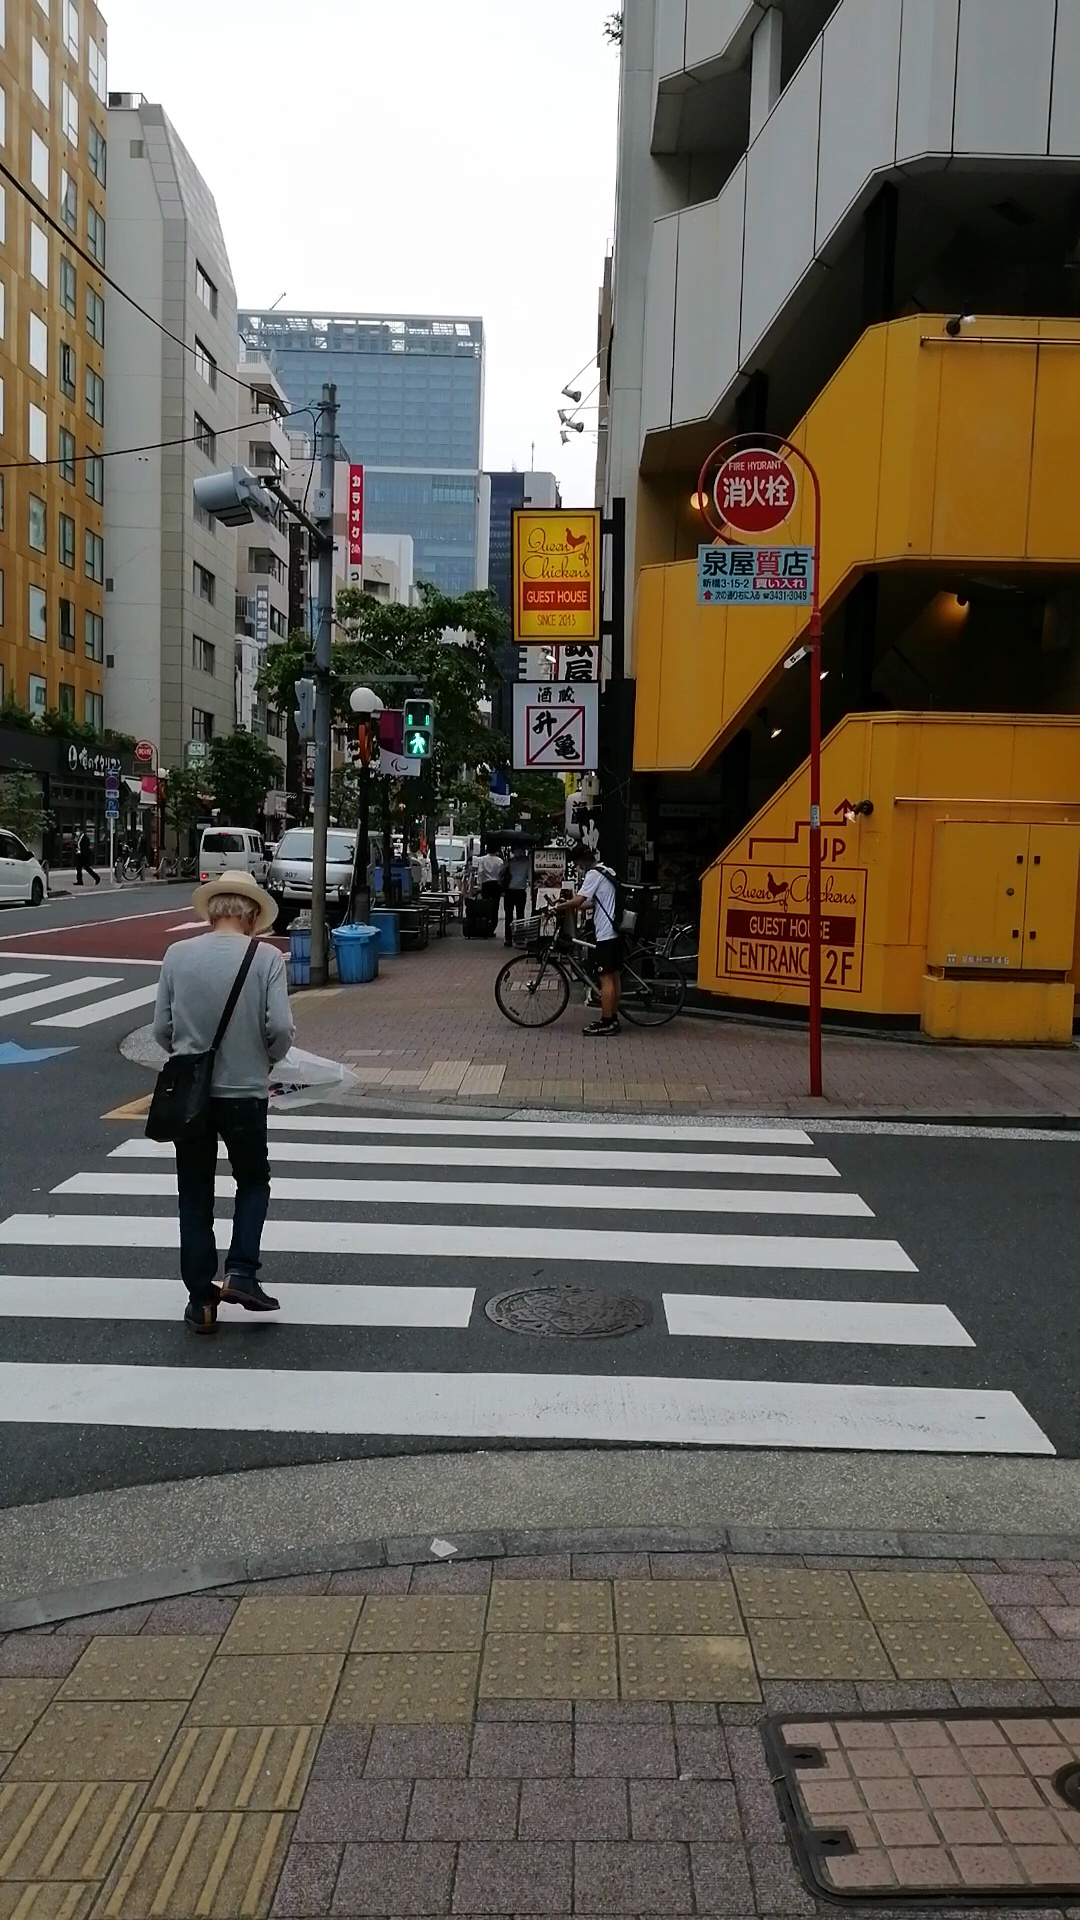green: (401, 696, 431, 758)
